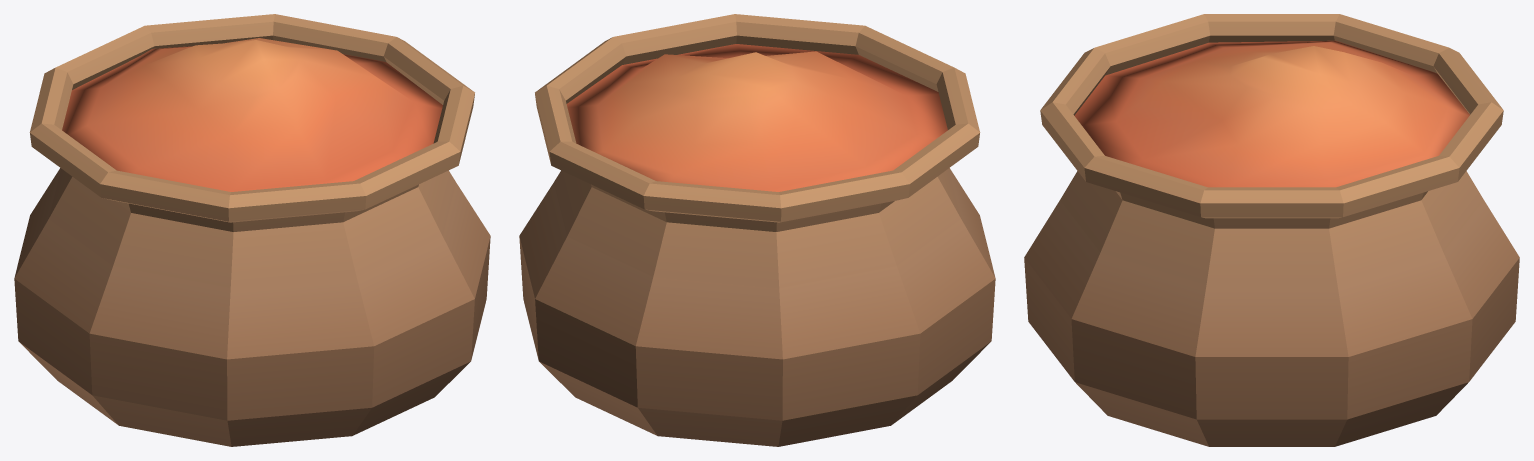
File: Product_3.fbx
The picture shows the model from 3 angles, left to right: view 1: azimuth 30°, elevation 25°; view 2: azimuth 150°, elevation 25°; view 3: azimuth 270°, elevation 25°; orthographic projection.
Visible parts, largest first — view 1: Product_3; view 2: Product_3; view 3: Product_3.
Part boxes in pixels (x1,y1,x2,y2): Product_3: (14,14,490,446); Product_3: (519,14,995,446); Product_3: (1024,14,1519,446).
Size of the model in its own units: 34.87 by 27.68 by 36.66.
